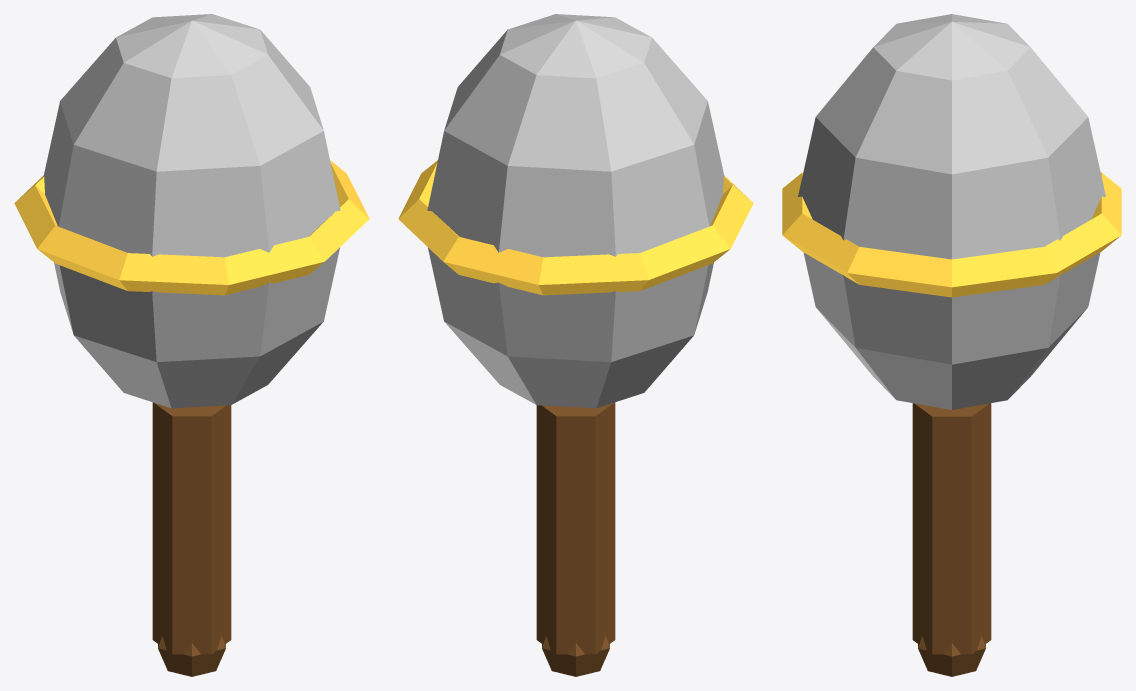
Rendered from held_maracas.glb.
3 views of the same model, side by side, from view 1: azimuth 30°, elevation 25°; view 2: azimuth 150°, elevation 25°; view 3: azimuth 270°, elevation 25° (orthographic).
Parts seen in each view (by area): view 1: paint_maraca, handle_maraca_wood, body_gold; view 2: paint_maraca, handle_maraca_wood, body_gold; view 3: paint_maraca, handle_maraca_wood, body_gold.
Part boxes in pixels (<box>): paint_maraca: <box>43,14,340,408</box>; handle_maraca_wood: <box>152,402,231,676</box>; body_gold: <box>14,160,369,295</box>; paint_maraca: <box>427,14,724,408</box>; handle_maraca_wood: <box>536,402,615,676</box>; body_gold: <box>398,160,753,295</box>; paint_maraca: <box>798,14,1105,409</box>; handle_maraca_wood: <box>912,403,991,676</box>; body_gold: <box>782,172,1121,297</box>.
Size of the model in its own units: 0.136 by 0.275 by 0.1293.
